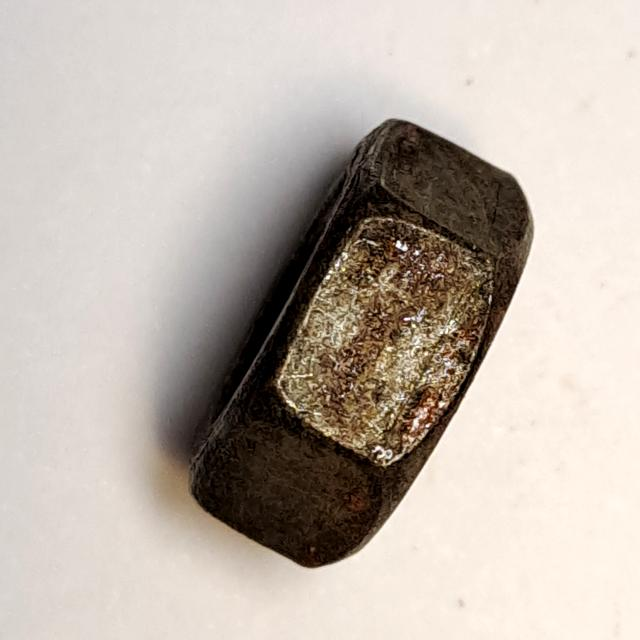Side_Rust: (179, 109, 550, 576)
